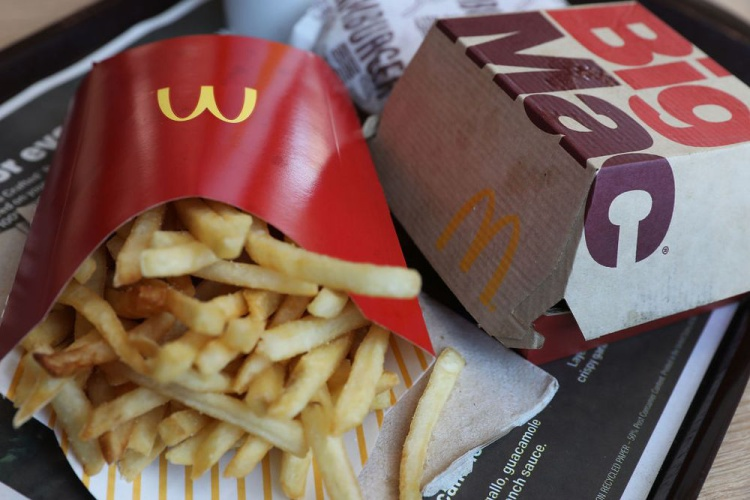mcdonalds: (146, 63, 272, 127)
